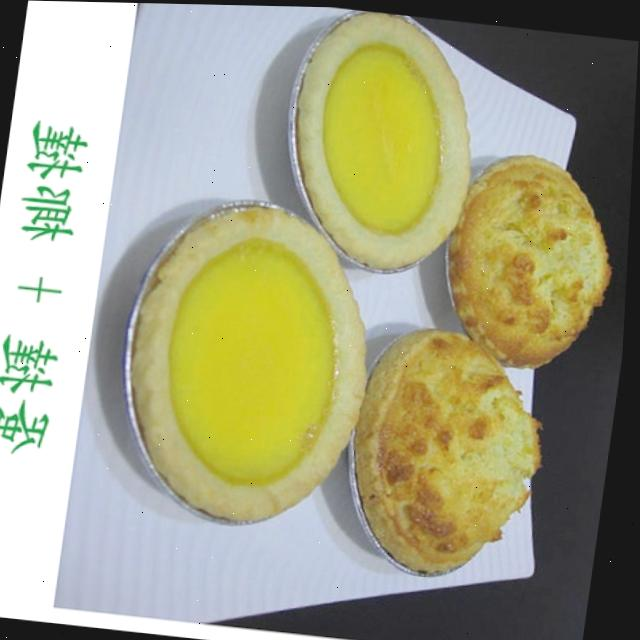炸货点心: (90, 2, 630, 602)
蛋糕甜品: (90, 2, 630, 602)
